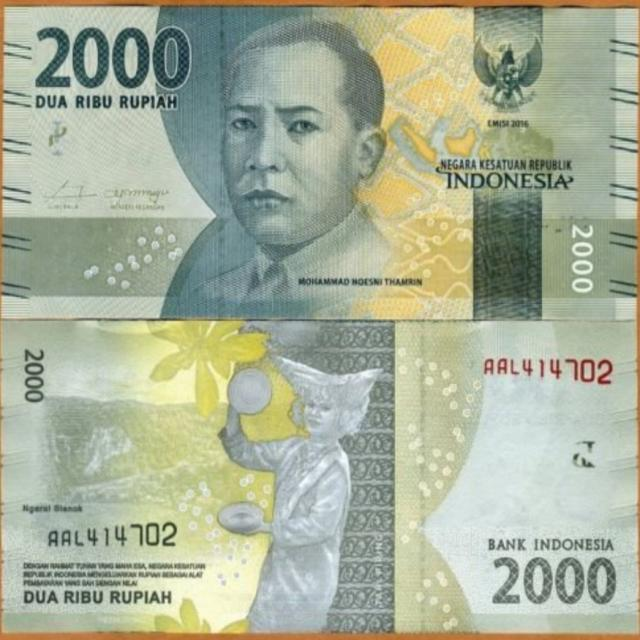dua ribu rupiah: (4, 320, 635, 637), (1, 7, 640, 320)
